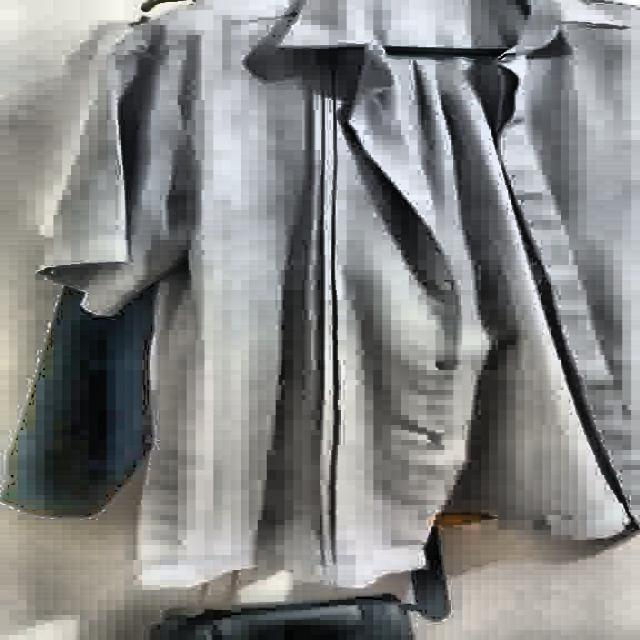clothes: (26, 0, 632, 612)
